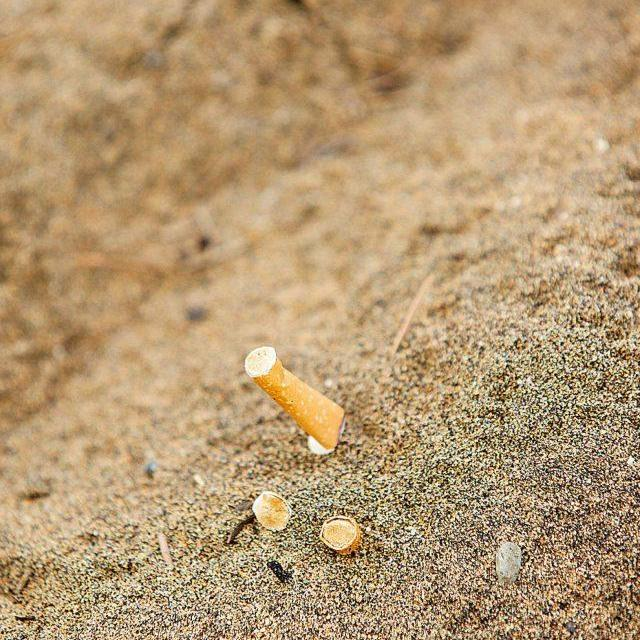Cigarette Butt: (244, 345, 347, 456), (318, 514, 365, 558), (251, 491, 294, 533)
